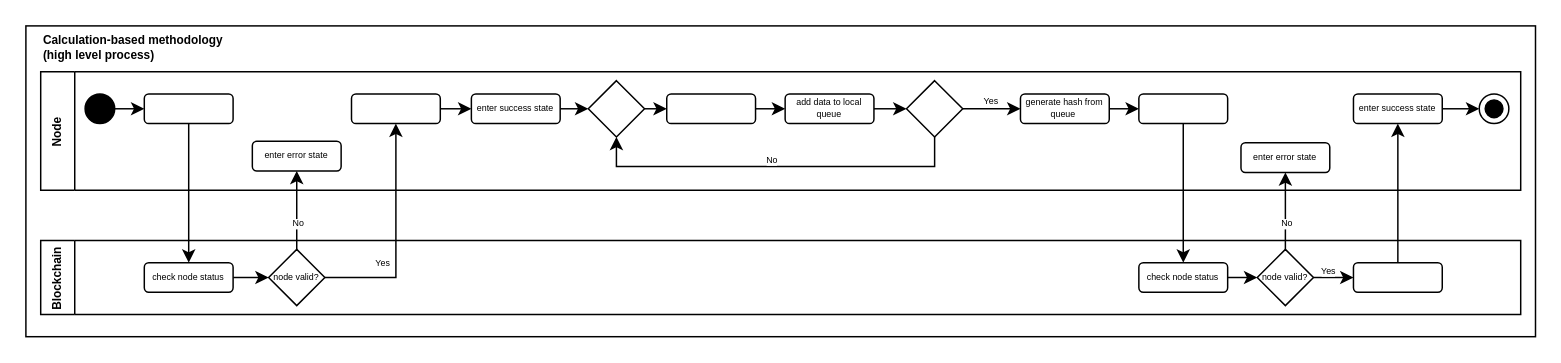
This 1561x363 diagram has some shape labels left out. Here are the shapes that lost their labels. From the top down, the centre of each, then its label:
the point at 188,108: request calculation model from BC
the point at 395,108: receive calculation model from BC
the point at 710,108: measure data
the point at 934,108: queue length ≥ n?
the point at 1182,108: request to store hash on BC
the point at 1397,276: store hash
